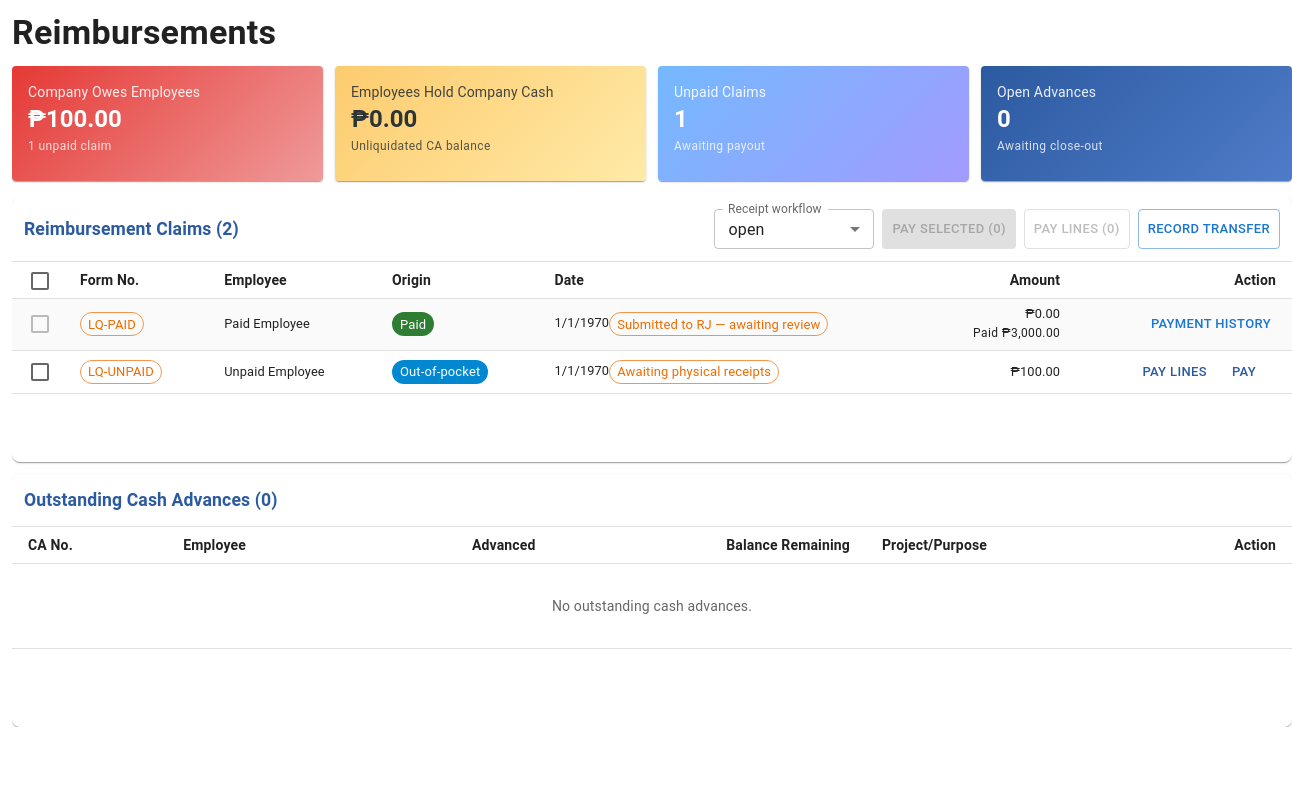
Test: paid but unreviewed claims stay visible at zero cash due and cannot be selected for another payment
This screenshot has width=1292, height=812.
Expected: the text "₱0.00" is shown, [1025,306,1060,321]
Expected: the text "Submitted to RJ — awaiting review" is shown, [610,315,827,334]
Click the checkbox next to "Form No.". click: (40, 281)
box: [28,269,52,293]
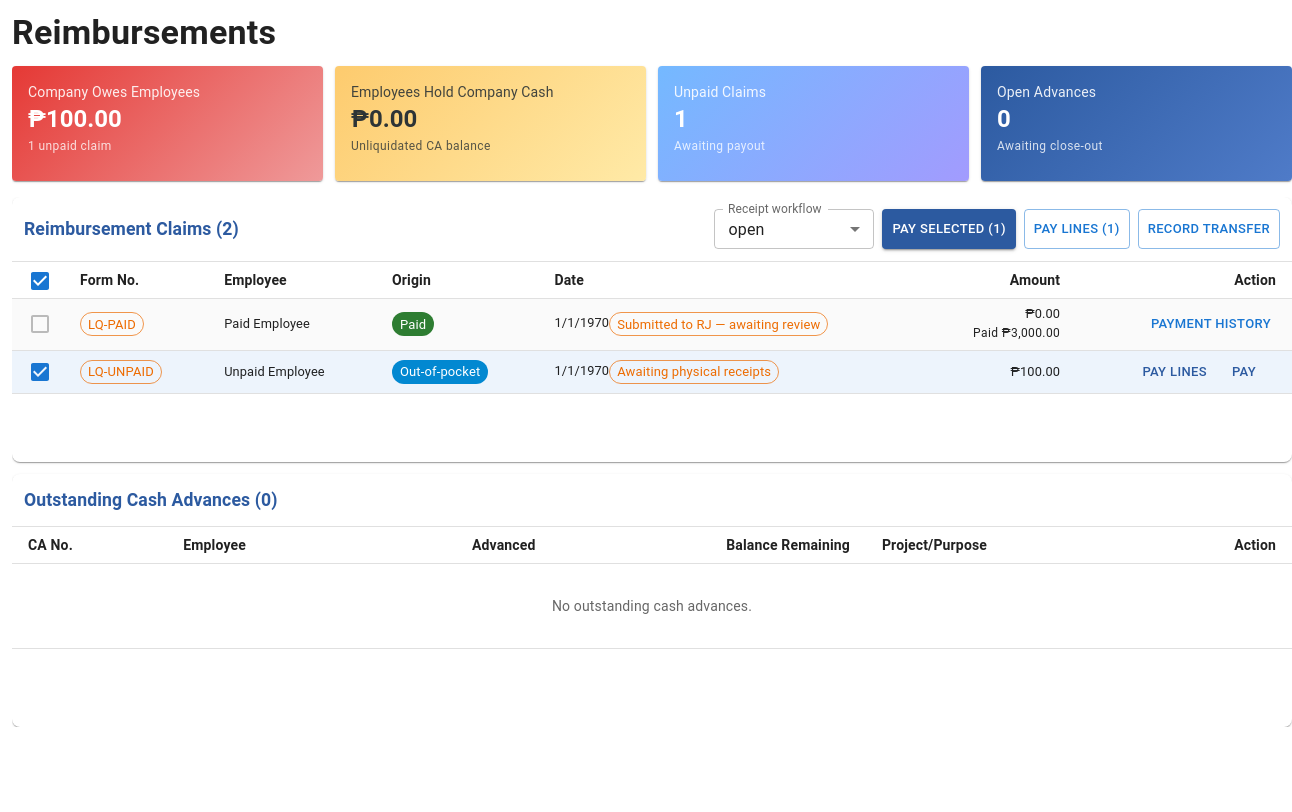
Expected: the checkbox in the row of "Submitted to RJ — awaiting review" is not checked, [28,312,52,336]
Expected: the button "Pay Selected (1)" is enabled, [882,209,1016,249]
